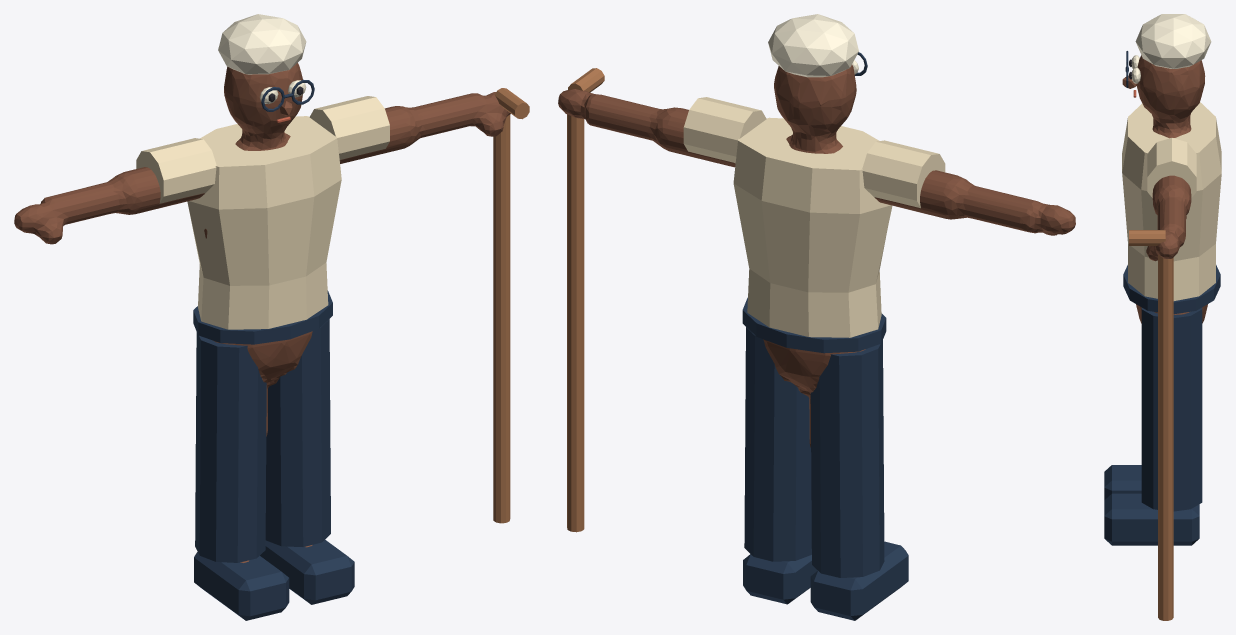
File: Disguise_Grandparent.fbx
The picture shows the model from 3 angles, left to right: view 1: azimuth 30°, elevation 25°; view 2: azimuth 150°, elevation 25°; view 3: azimuth 270°, elevation 25°; orthographic projection. The views are drawn at different scales.
Visible parts, largest first — view 1: Disguise_Grandparent_Wearer_Shirt.002, Disguise_Grandparent_Wearer_Civilian_03_Base_BaseMale_TPose_, Disguise_Grandparent_Wearer_PantsLeg.004, Disguise_Grandparent_Wearer_PantsLeg.005, WalkingCane, Disguise_Grandparent_Wearer_Shoe.004, Disguise_Grandparent_Wearer_HairCap.002, Disguise_Grandparent_Wearer_Shoe.005, Disguise_Grandparent_Wearer_Sleeve.004, Disguise_Grandparent_Wearer_Sleeve.005, Disguise_Grandparent_Wearer_Belt.002; view 2: Disguise_Grandparent_Wearer_Shirt.002, Disguise_Grandparent_Wearer_Civilian_03_Base_BaseMale_TPose_, Disguise_Grandparent_Wearer_PantsLeg.004, Disguise_Grandparent_Wearer_PantsLeg.005, WalkingCane, Disguise_Grandparent_Wearer_HairCap.002, Disguise_Grandparent_Wearer_Shoe.004, Disguise_Grandparent_Wearer_Sleeve.004, Disguise_Grandparent_Wearer_Sleeve.005, Disguise_Grandparent_Wearer_Shoe.005, Disguise_Grandparent_Wearer_Belt.002; view 3: Disguise_Grandparent_Wearer_Shirt.002, Disguise_Grandparent_Wearer_PantsLeg.005, Disguise_Grandparent_Wearer_Civilian_03_Base_BaseMale_TPose_, WalkingCane, Disguise_Grandparent_Wearer_Shoe.005, Disguise_Grandparent_Wearer_HairCap.002, Disguise_Grandparent_Wearer_Sleeve.005, Disguise_Grandparent_Wearer_Belt.002, Disguise_Grandparent_Wearer_Shoe.004, CaneHandle.
Boxes of the visible parts, x1=… form: Disguise_Grandparent_Wearer_Shirt.002: x1=187, y1=116, x2=341, y2=329; Disguise_Grandparent_Wearer_Civilian_03_Base_BaseMale_TPose_: x1=14, y1=63, x2=510, y2=562; Disguise_Grandparent_Wearer_PantsLeg.004: x1=195, y1=332, x2=266, y2=562; Disguise_Grandparent_Wearer_PantsLeg.005: x1=265, y1=319, x2=330, y2=546; WalkingCane: x1=493, y1=115, x2=510, y2=523; Disguise_Grandparent_Wearer_Shoe.004: x1=194, y1=552, x2=289, y2=620; Disguise_Grandparent_Wearer_HairCap.002: x1=218, y1=14, x2=306, y2=74; Disguise_Grandparent_Wearer_Shoe.005: x1=260, y1=540, x2=354, y2=604; Disguise_Grandparent_Wearer_Sleeve.004: x1=136, y1=138, x2=216, y2=203; Disguise_Grandparent_Wearer_Sleeve.005: x1=309, y1=96, x2=389, y2=161; Disguise_Grandparent_Wearer_Belt.002: x1=193, y1=290, x2=332, y2=344; Disguise_Grandparent_Wearer_Shirt.002: x1=733, y1=117, x2=892, y2=337; Disguise_Grandparent_Wearer_Civilian_03_Base_BaseMale_TPose_: x1=558, y1=64, x2=1075, y2=447; Disguise_Grandparent_Wearer_PantsLeg.004: x1=810, y1=340, x2=884, y2=577; Disguise_Grandparent_Wearer_PantsLeg.005: x1=744, y1=327, x2=811, y2=561; WalkingCane: x1=567, y1=114, x2=584, y2=532; Disguise_Grandparent_Wearer_HairCap.002: x1=768, y1=14, x2=858, y2=77; Disguise_Grandparent_Wearer_Shoe.004: x1=810, y1=541, x2=908, y2=620; Disguise_Grandparent_Wearer_Sleeve.004: x1=862, y1=140, x2=945, y2=208; Disguise_Grandparent_Wearer_Sleeve.005: x1=683, y1=97, x2=766, y2=163; Disguise_Grandparent_Wearer_Shoe.005: x1=743, y1=554, x2=817, y2=604; Disguise_Grandparent_Wearer_Belt.002: x1=742, y1=297, x2=886, y2=353; Disguise_Grandparent_Wearer_Shirt.002: x1=1122, y1=102, x2=1221, y2=300; Disguise_Grandparent_Wearer_PantsLeg.005: x1=1141, y1=307, x2=1202, y2=511; Disguise_Grandparent_Wearer_Civilian_03_Base_BaseMale_TPose_: x1=1136, y1=55, x2=1207, y2=323; WalkingCane: x1=1158, y1=254, x2=1173, y2=620; Disguise_Grandparent_Wearer_Shoe.005: x1=1104, y1=493, x2=1199, y2=545; Disguise_Grandparent_Wearer_HairCap.002: x1=1135, y1=14, x2=1211, y2=68; Disguise_Grandparent_Wearer_Sleeve.005: x1=1147, y1=138, x2=1196, y2=197; Disguise_Grandparent_Wearer_Belt.002: x1=1123, y1=265, x2=1220, y2=314; Disguise_Grandparent_Wearer_Shoe.004: x1=1104, y1=465, x2=1141, y2=499; CaneHandle: x1=1129, y1=230, x2=1165, y2=245.
Size of the model in its own units: 1.68 by 1.82 by 0.3817.
